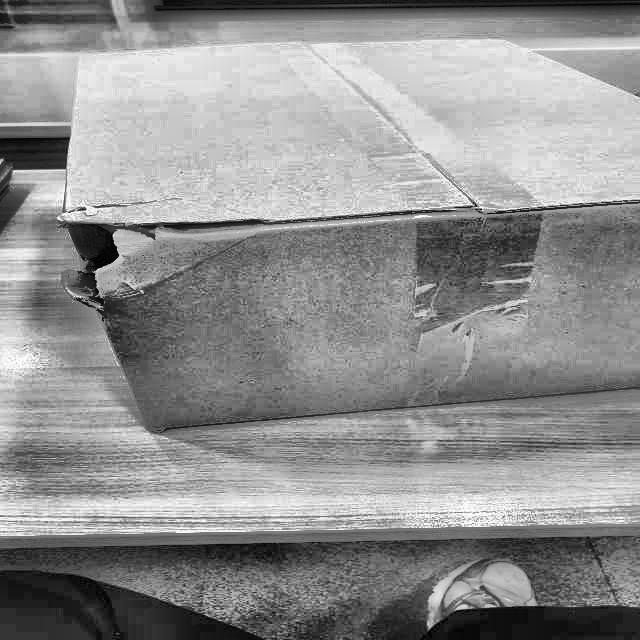box: (44, 25, 639, 448)
hole: (64, 202, 273, 306)
